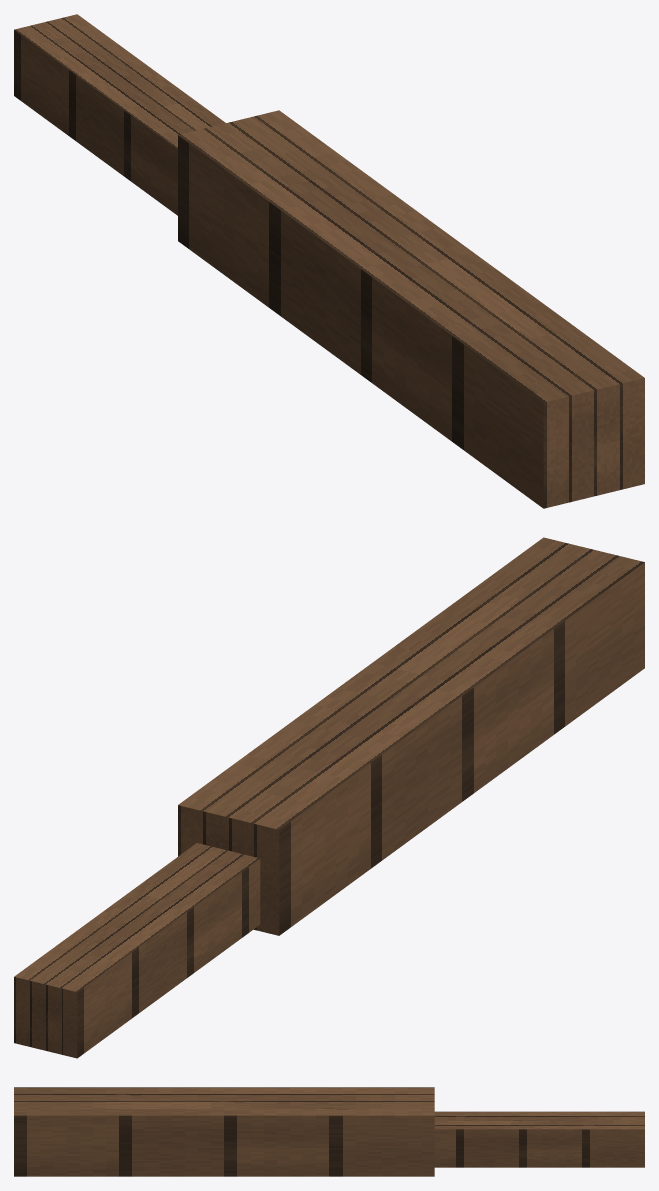
The model's file is baseball_bat.obj.
The picture shows the model from 3 angles, top to bottom: view 1: azimuth 30°, elevation 25°; view 2: azimuth 150°, elevation 25°; view 3: azimuth 270°, elevation 25°; orthographic projection. The views are drawn at different scales.
Parts seen in each view (by area): view 1: part0, part1; view 2: part0, part1; view 3: part0, part1.
Boxes of the visible parts, bbox=[...] form: part0: bbox=[178, 110, 644, 508]; part1: bbox=[14, 14, 225, 215]; part0: bbox=[178, 537, 644, 935]; part1: bbox=[14, 843, 260, 1058]; part0: bbox=[14, 1087, 434, 1176]; part1: bbox=[434, 1111, 644, 1167].
Size of the model in its own units: 0.08 by 0.08 by 0.75.
Materials: 2 (2 with a texture image).
